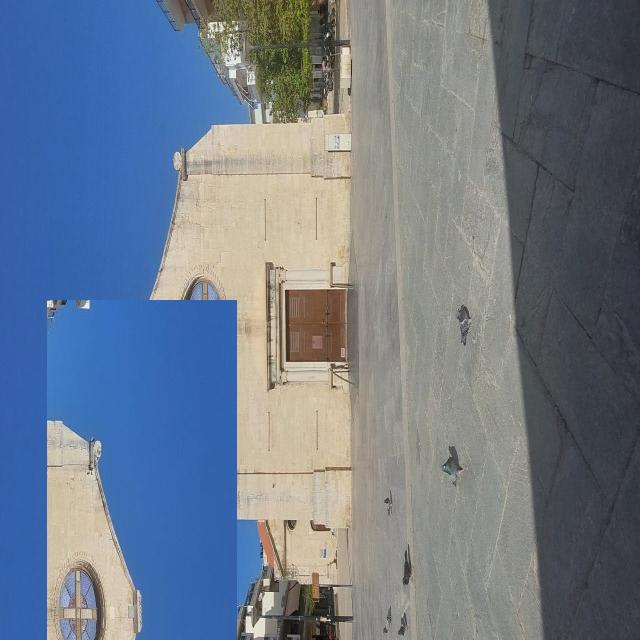Agia Aikaterini: (48, 301, 238, 640)
